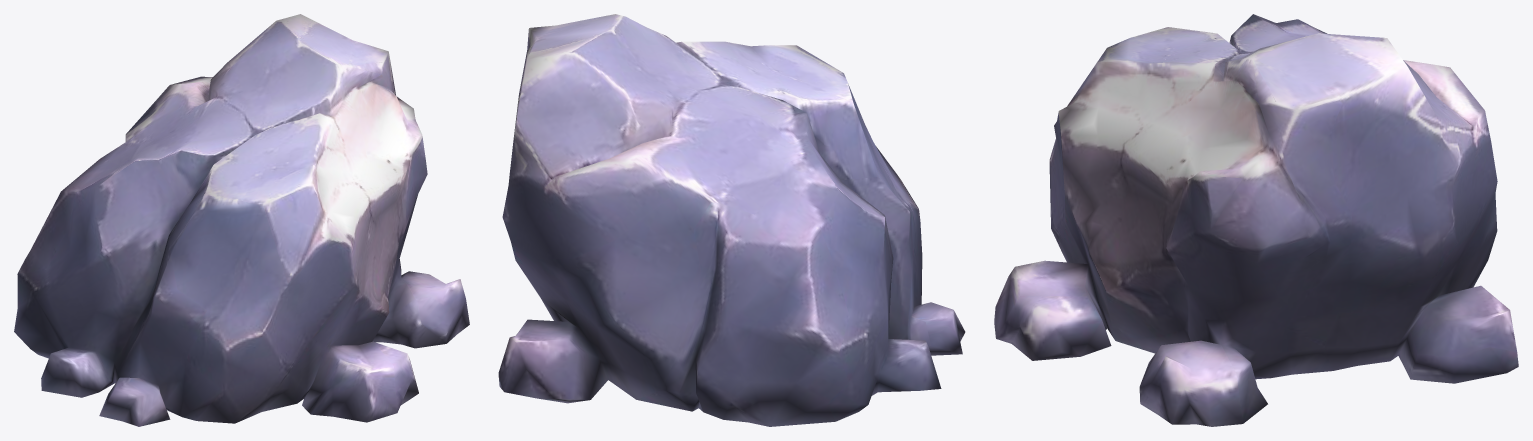
File: hazard_rock.glb
3 renders of one model, left to right at view 1: azimuth 30°, elevation 25°; view 2: azimuth 150°, elevation 25°; view 3: azimuth 270°, elevation 25°, orthographic. The views are drawn at different scales.
Parts seen in each view (by area): view 1: hazard_rock; view 2: hazard_rock; view 3: hazard_rock.
Boxes of the visible parts, x1=… form: hazard_rock: x1=14, y1=14, x2=469, y2=426; hazard_rock: x1=498, y1=14, x2=965, y2=426; hazard_rock: x1=994, y1=14, x2=1518, y2=426.
Size of the model in its own units: 1.2 by 0.7961 by 1.14.
Materials: 1 (1 with a texture image).
